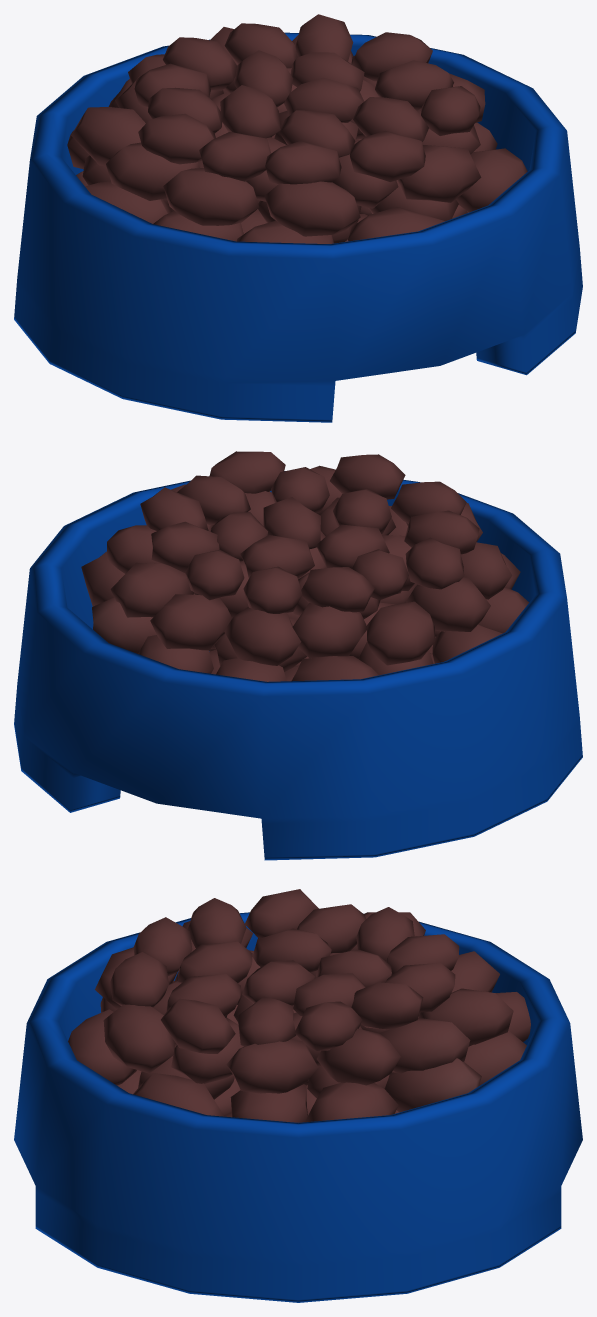
Rendered from Cat Food.fbx.
3 views of the same model, one above another, from view 1: azimuth 30°, elevation 25°; view 2: azimuth 150°, elevation 25°; view 3: azimuth 270°, elevation 25° (orthographic).
Visible parts, largest first — view 1: pCylinder1, polySurface23, polySurface22, polySurface21, polySurface20; view 2: pCylinder1, polySurface23, polySurface22, polySurface21; view 3: pCylinder1, polySurface23, polySurface22, polySurface21, polySurface20.
Part boxes in pixels (bbox=[...]): pCylinder1: bbox=[14, 32, 582, 422]; polySurface23: bbox=[134, 14, 480, 184]; polySurface22: bbox=[71, 27, 485, 236]; polySurface21: bbox=[67, 79, 527, 243]; polySurface20: bbox=[76, 171, 467, 241]; pCylinder1: bbox=[14, 471, 582, 860]; polySurface23: bbox=[140, 451, 479, 613]; polySurface22: bbox=[107, 465, 512, 665]; polySurface21: bbox=[81, 506, 529, 681]; pCylinder1: bbox=[14, 912, 582, 1302]; polySurface23: bbox=[110, 889, 459, 1053]; polySurface22: bbox=[95, 912, 513, 1093]; polySurface21: bbox=[68, 971, 530, 1122]; polySurface20: bbox=[117, 1070, 399, 1117].
Bounding box in the file's own units: 2.12 × 0.9513 × 2.09.
Materials: 1 (1 with a texture image).
